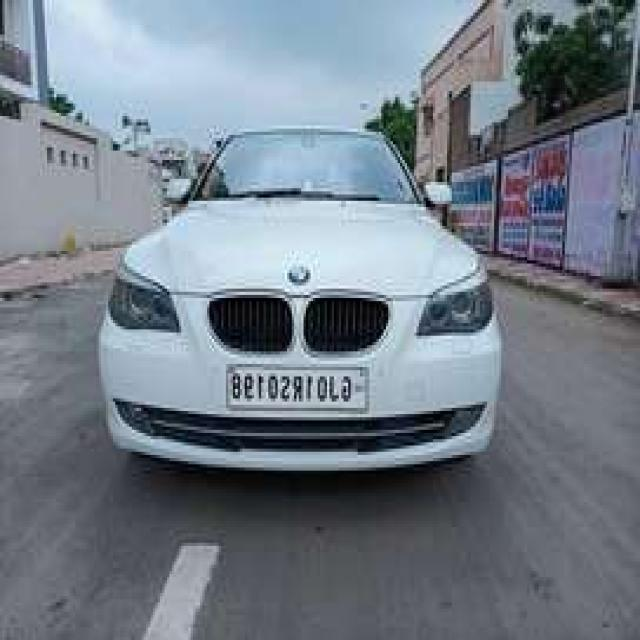license_plate: (220, 358, 372, 417)
